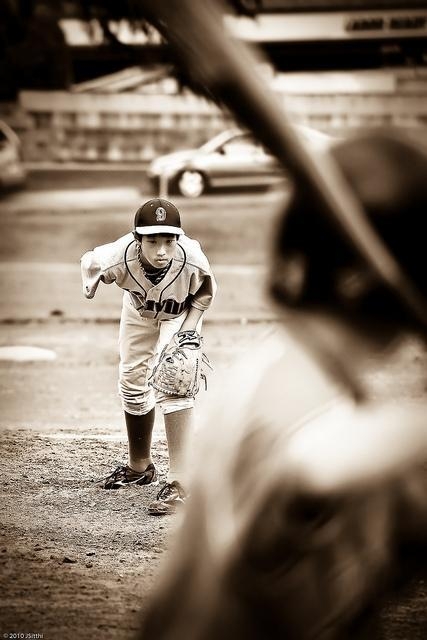car: (148, 123, 339, 200), (1, 120, 29, 203)
